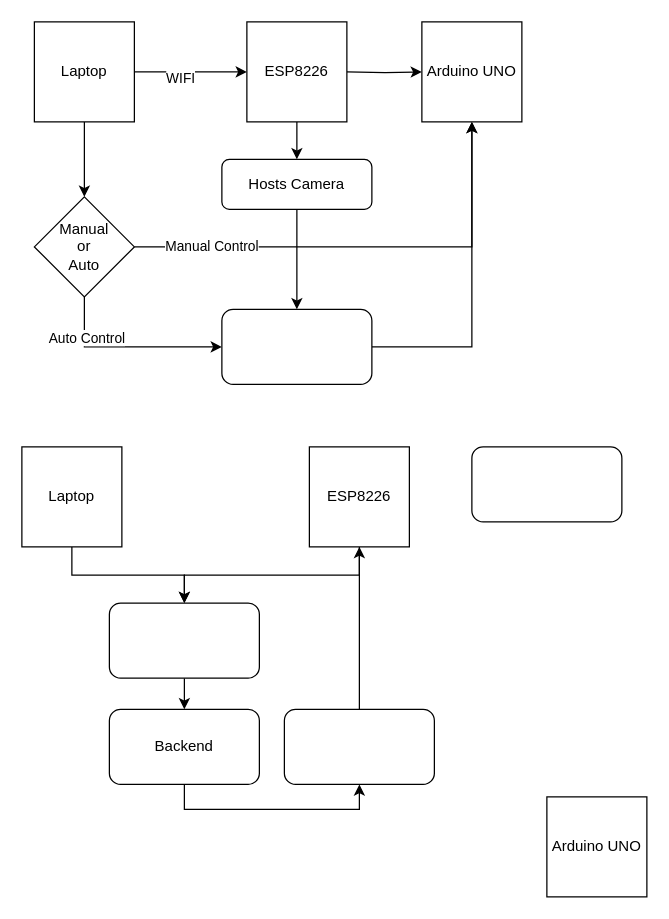
Some shapes in this 669 by 919 pixel diagram are drawn without their labels. Here are the shapes that lost their labels. From the top down, the box of each, then its label:
(221, 308, 372, 384): OpenCV
(471, 446, 622, 522): Arduino Controller
(108, 602, 259, 678): Frontend
(283, 708, 434, 784): ESP8222 Controller
